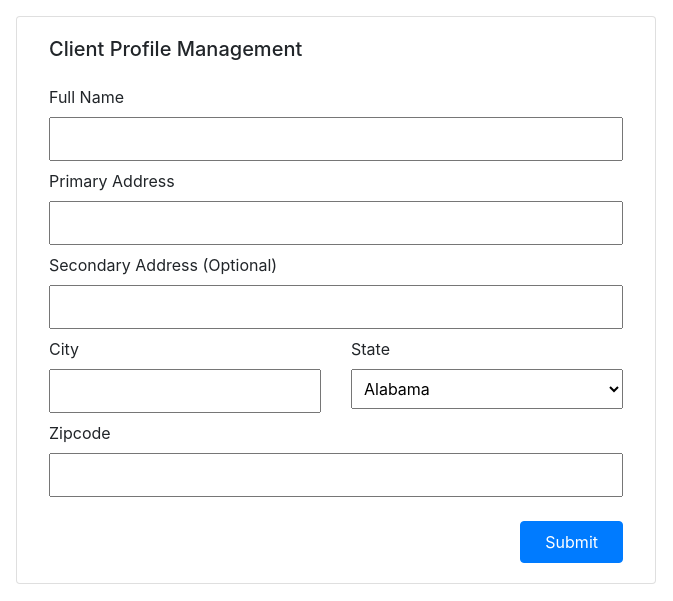
Scenario: Profile component › Zipcode - too short
Type "770" into the field labelled "Zipcode". click: [336, 475]
box: [49,453,623,497]
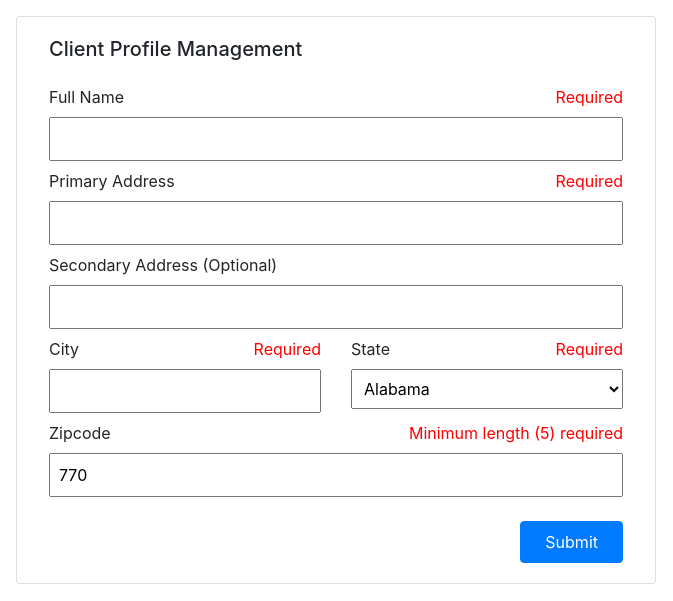
Result: the text "Minimum length (5) required" is shown at [409,421,623,445]
